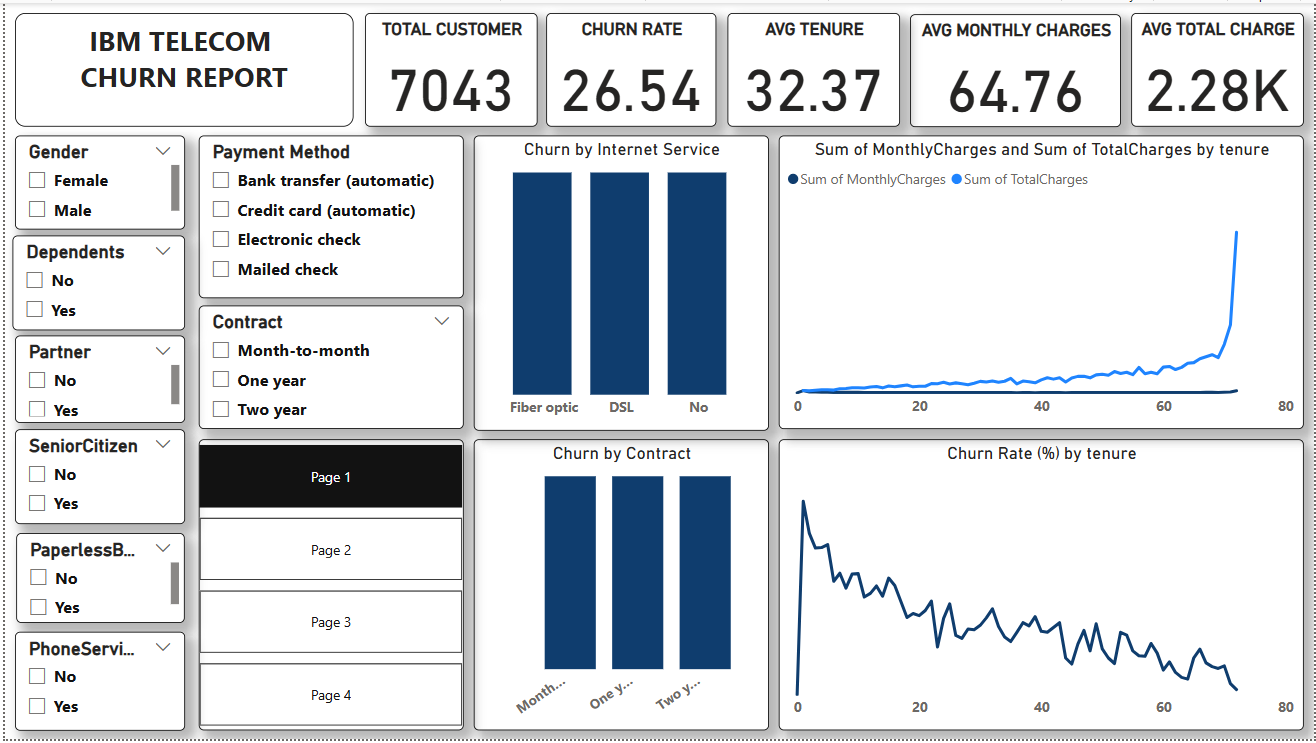

This screenshot's page, from the dashboard's own definition file:
{"tool":"powerbi","page":{"name":"Page 1","canvas":[1280,720],"ordinal":0},"visuals":[{"type":"card","title":"TOTAL CUSTOMER","fields":{"Values":["CountNonNull(WA_Fn-UseC_-Telco-Customer-Churn.customerID)"]},"box":[352.2,9.8,168.8,111.3],"z":0},{"type":"slicer","fields":{"Values":["WA_Fn-UseC_-Telco-Customer-Churn.gender"]},"box":[9.8,129.6,166.3,91.7],"z":1000},{"type":"card","title":"CHURN RATE","fields":{"Values":["WA_Fn-UseC_-Telco-Customer-Churn.Churn Rate (%)"]},"box":[529.5,9.8,166.3,111.3],"z":2000},{"type":"card","title":"AVG MONTHLY CHARGES","fields":{"Values":["Avg(WA_Fn-UseC_-Telco-Customer-Churn.MonthlyCharges)"]},"box":[885.3,11,206.7,110.1],"z":3000},{"type":"card","title":"AVG TENURE","fields":{"Values":["Avg(WA_Fn-UseC_-Telco-Customer-Churn.tenure)"]},"box":[706.8,9.8,168.8,111.3],"z":4000},{"type":"card","title":"AVG TOTAL CHARGE","fields":{"Values":["Avg(WA_Fn-UseC_-Telco-Customer-Churn.TotalCharges)"]},"box":[1101.8,9.8,168.8,111.3],"z":5000},{"type":"hundredPercentStackedColumnChart","title":"Churn by Contract","fields":{"Y":["Sum(WA_Fn-UseC_-Telco-Customer-Churn.New_churn)"],"Category":["WA_Fn-UseC_-Telco-Customer-Churn.Contract"]},"box":[458.6,426.8,288.6,284.9],"z":6000},{"type":"hundredPercentStackedColumnChart","title":"Churn by Internet Service","fields":{"Y":["Sum(WA_Fn-UseC_-Telco-Customer-Churn.New_churn)"],"Category":["WA_Fn-UseC_-Telco-Customer-Churn.InternetService"]},"box":[458.6,129.6,288.6,288.6],"z":7000},{"type":"lineChart","fields":{"Category":["WA_Fn-UseC_-Telco-Customer-Churn.tenure"],"Y":["WA_Fn-UseC_-Telco-Customer-Churn.Churn Rate (%)"]},"box":[756.9,426.8,513.6,284.9],"z":8000},{"type":"lineChart","fields":{"Category":["WA_Fn-UseC_-Telco-Customer-Churn.tenure"],"Y":["Sum(WA_Fn-UseC_-Telco-Customer-Churn.MonthlyCharges)","Sum(WA_Fn-UseC_-Telco-Customer-Churn.TotalCharges)"]},"box":[756.9,129.6,513.6,287.4],"z":9000},{"type":"slicer","fields":{"Values":["WA_Fn-UseC_-Telco-Customer-Churn.PaymentMethod"]},"box":[189.5,129.6,259.2,159],"z":10000},{"type":"pageNavigator","box":[189.5,426.8,259.2,284.9],"z":11000},{"type":"slicer","fields":{"Values":["WA_Fn-UseC_-Telco-Customer-Churn.Contract"]},"box":[189.5,295.9,259.2,121.1],"z":12000},{"type":"slicer","fields":{"Values":["WA_Fn-UseC_-Telco-Customer-Churn.Dependents"]},"box":[7.3,227.4,168.8,92.9],"z":13000},{"type":"slicer","fields":{"Values":["WA_Fn-UseC_-Telco-Customer-Churn.Partner"]},"box":[9.8,325.3,166.3,85.6],"z":14000},{"type":"slicer","fields":{"Values":["WA_Fn-UseC_-Telco-Customer-Churn.SeniorCitizen"]},"box":[9.8,417,166.3,92.9],"z":15000},{"type":"slicer","fields":{"Values":["WA_Fn-UseC_-Telco-Customer-Churn.PaperlessBilling"]},"box":[11,518.5,165.1,88],"z":16000},{"type":"slicer","fields":{"Values":["WA_Fn-UseC_-Telco-Customer-Churn.PhoneService"]},"box":[9.8,615.1,166.3,96.6],"z":17000},{"type":"textbox","box":[9.8,9.8,331.4,111.3],"z":18000}]}

Visuals, with their boxes in screenshot pixels (x1, y1, x2, y2), scaled from the page's 1280x720 canvas onto the 1316x743 screenshot:
"TOTAL CUSTOMER" card: bbox=(362, 10, 536, 125)
slicer - WA_Fn-UseC_-Telco-Customer-Churn.gender: bbox=(10, 134, 181, 228)
"CHURN RATE" card: bbox=(544, 10, 715, 125)
"AVG MONTHLY CHARGES" card: bbox=(910, 11, 1123, 125)
"AVG TENURE" card: bbox=(727, 10, 900, 125)
"AVG TOTAL CHARGE" card: bbox=(1133, 10, 1306, 125)
"Churn by Contract" hundredPercentStackedColumnChart: bbox=(471, 440, 768, 734)
"Churn by Internet Service" hundredPercentStackedColumnChart: bbox=(471, 134, 768, 432)
lineChart - WA_Fn-UseC_-Telco-Customer-Churn.tenure x WA_Fn-UseC_-Telco-Customer-Churn.Churn Rate (%): bbox=(778, 440, 1306, 734)
lineChart - WA_Fn-UseC_-Telco-Customer-Churn.tenure x Sum(WA_Fn-UseC_-Telco-Customer-Churn.MonthlyCharges): bbox=(778, 134, 1306, 430)
slicer - WA_Fn-UseC_-Telco-Customer-Churn.PaymentMethod: bbox=(195, 134, 461, 298)
pageNavigator: bbox=(195, 440, 461, 734)
slicer - WA_Fn-UseC_-Telco-Customer-Churn.Contract: bbox=(195, 305, 461, 430)
slicer - WA_Fn-UseC_-Telco-Customer-Churn.Dependents: bbox=(8, 235, 181, 331)
slicer - WA_Fn-UseC_-Telco-Customer-Churn.Partner: bbox=(10, 336, 181, 424)
slicer - WA_Fn-UseC_-Telco-Customer-Churn.SeniorCitizen: bbox=(10, 430, 181, 526)
slicer - WA_Fn-UseC_-Telco-Customer-Churn.PaperlessBilling: bbox=(11, 535, 181, 626)
slicer - WA_Fn-UseC_-Telco-Customer-Churn.PhoneService: bbox=(10, 635, 181, 734)
textbox: bbox=(10, 10, 351, 125)
